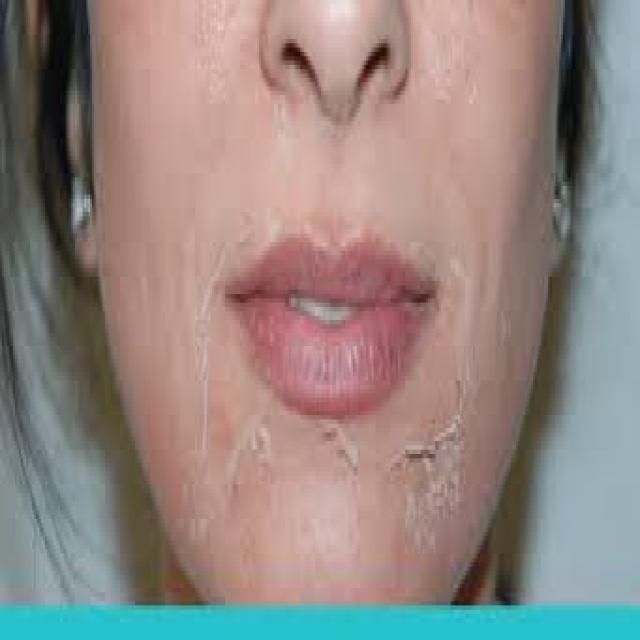dry: (238, 416, 308, 487), (189, 273, 227, 402), (174, 459, 218, 543), (319, 414, 372, 482), (408, 442, 460, 506), (454, 366, 484, 438)
